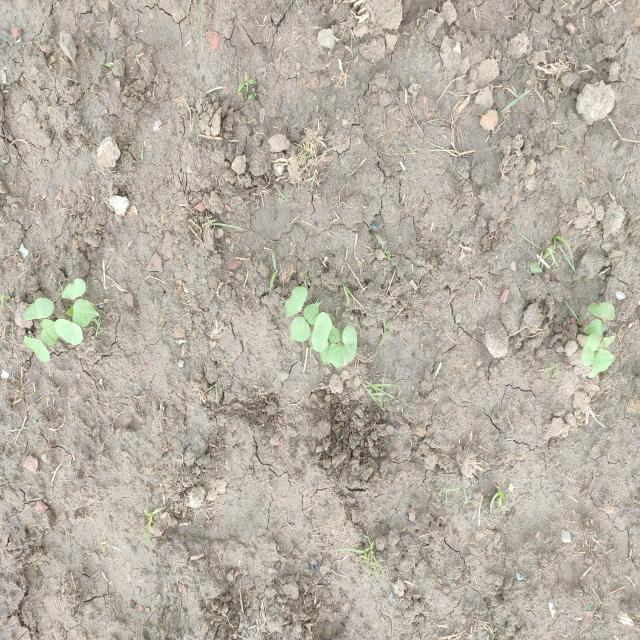seedling: (72, 299, 100, 326), (312, 313, 332, 350), (55, 319, 83, 345), (23, 298, 55, 320), (24, 337, 50, 363), (285, 287, 307, 317), (342, 324, 357, 361), (581, 334, 599, 364), (62, 278, 86, 299), (40, 319, 59, 345), (290, 318, 310, 341), (588, 303, 615, 320), (594, 350, 616, 369), (328, 344, 345, 368), (303, 302, 319, 325), (585, 319, 603, 336), (329, 324, 342, 343), (321, 341, 329, 365)
